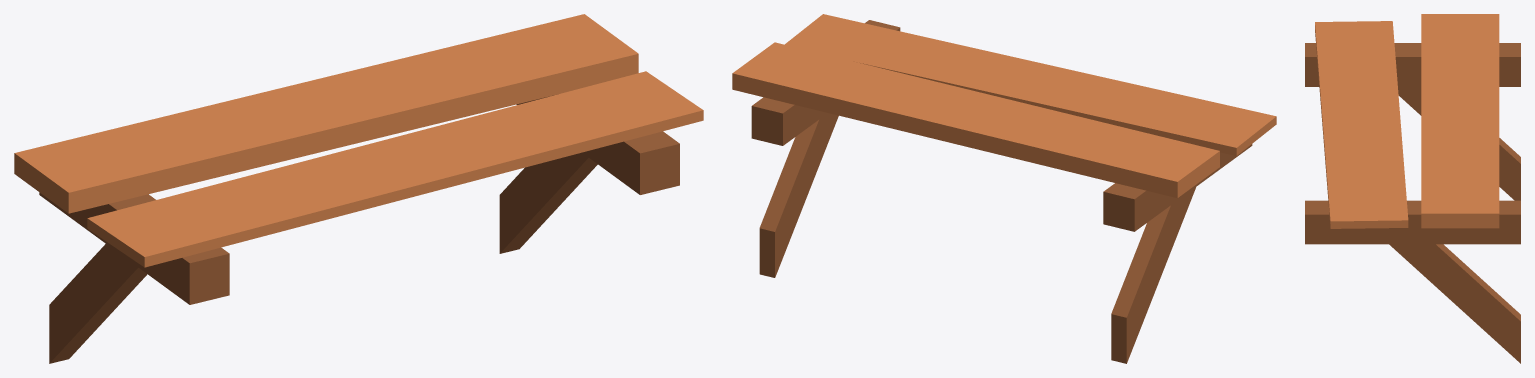
The model's file is bridgeHalf.fbx.
The picture shows the model from 3 angles, left to right: view 1: azimuth 30°, elevation 25°; view 2: azimuth 150°, elevation 25°; view 3: azimuth 270°, elevation 25°; orthographic projection. The views are drawn at different scales.
Parts seen in each view (by area): view 1: bridgeHalf; view 2: bridgeHalf; view 3: bridgeHalf.
Boxes of the visible parts, x1,y1,x2,y2 form: bridgeHalf: (14,14,703,363); bridgeHalf: (732,14,1276,363); bridgeHalf: (1305,14,1520,363).
Bounding box in the file's own units: 10.05 × 3.92 × 4.57.
